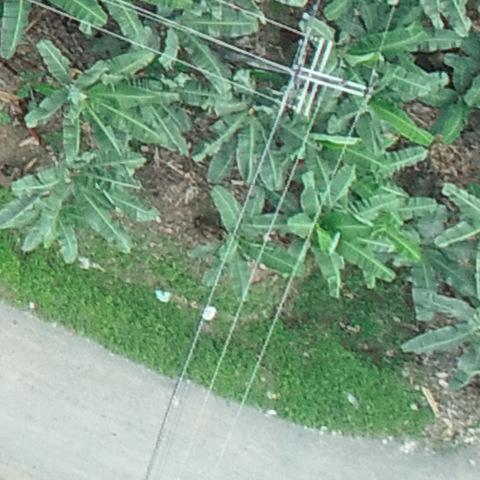Banana-plant: (0, 138, 152, 261), (21, 44, 172, 159), (276, 173, 395, 287), (190, 75, 295, 193), (198, 184, 299, 301), (327, 65, 441, 168), (299, 0, 423, 87)
